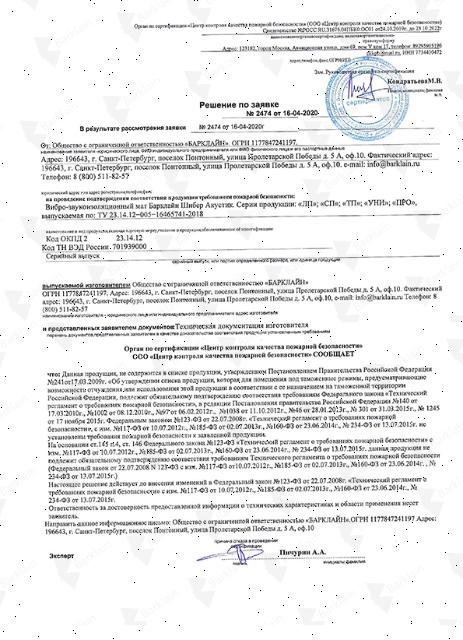stamp: (325, 58, 407, 140)
